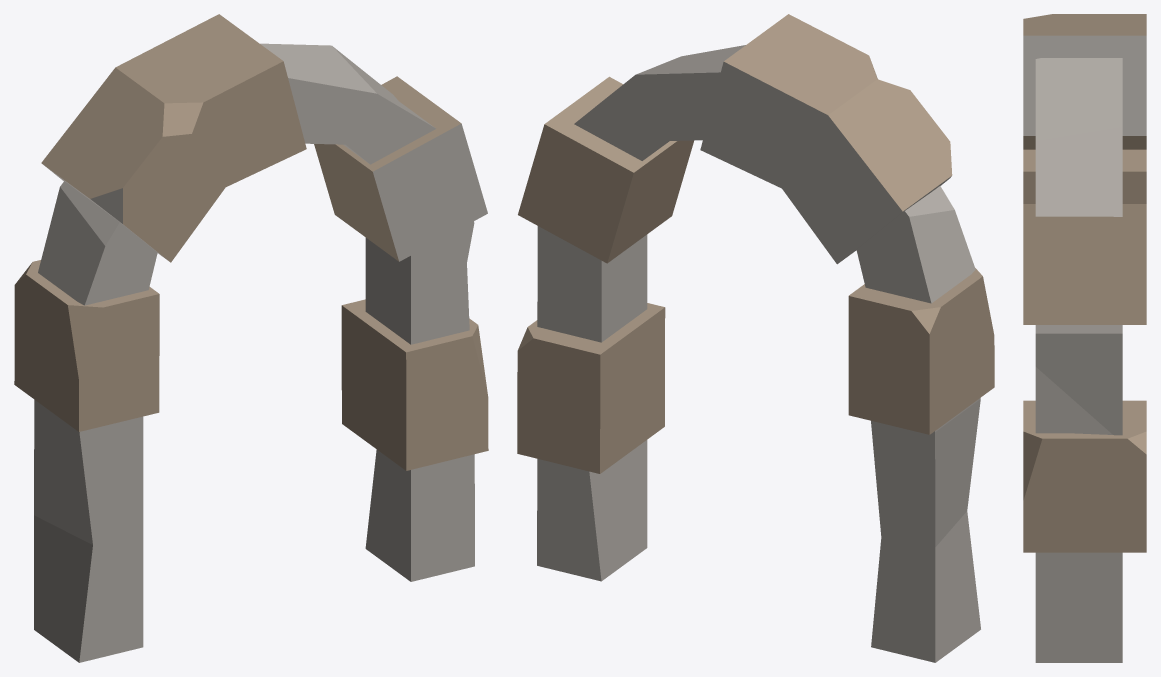
File: portal2.fbx
3 views of the same model, side by side, from view 1: azimuth 30°, elevation 25°; view 2: azimuth 150°, elevation 25°; view 3: azimuth 270°, elevation 25° (orthographic). The views are drawn at different scales.
Visible parts, largest first — view 1: Plane.001; view 2: Plane.001; view 3: Plane.001.
Boxes of the visible parts, bbox=[...] form: Plane.001: bbox=[14, 14, 488, 662]; Plane.001: bbox=[517, 14, 994, 662]; Plane.001: bbox=[1023, 14, 1146, 662].
Size of the model in its own units: 306 by 399 by 83.41.
